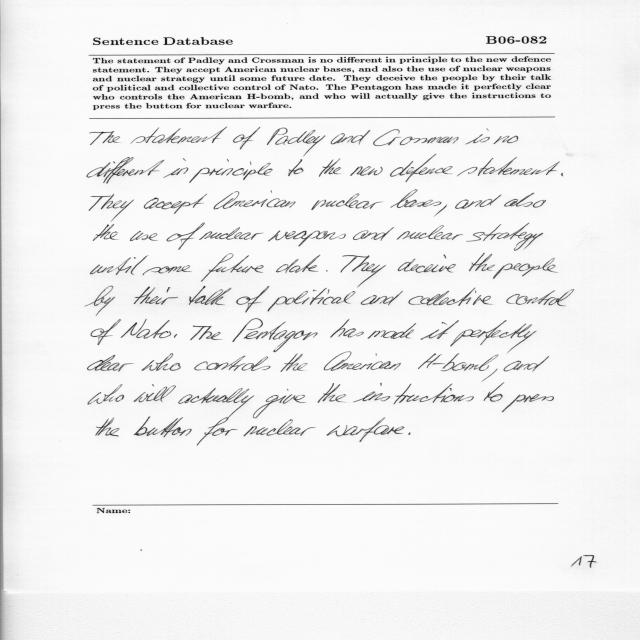word: (178, 388, 254, 443), (450, 320, 537, 353), (233, 319, 318, 352), (353, 383, 474, 404), (466, 223, 543, 251), (268, 288, 356, 311), (189, 159, 273, 183), (87, 157, 164, 183), (457, 157, 560, 176), (327, 417, 405, 442), (390, 154, 453, 182), (201, 254, 263, 282), (131, 127, 228, 144), (267, 128, 325, 156), (214, 191, 296, 210), (253, 389, 306, 418), (340, 255, 386, 288), (409, 288, 493, 306), (324, 352, 401, 371), (373, 129, 459, 146), (418, 354, 498, 372), (493, 258, 558, 279), (134, 416, 192, 438), (144, 194, 207, 214), (268, 231, 346, 247), (311, 193, 384, 210), (244, 420, 316, 437), (89, 194, 134, 221), (506, 289, 574, 306), (194, 356, 271, 371), (90, 256, 149, 275), (398, 255, 456, 273), (167, 223, 205, 250), (121, 319, 171, 339), (397, 225, 463, 240), (502, 394, 554, 412), (391, 190, 442, 208), (85, 286, 115, 316), (236, 286, 269, 313), (134, 286, 178, 305), (199, 227, 263, 240), (189, 286, 231, 305), (276, 255, 320, 273), (88, 355, 134, 372), (91, 319, 121, 345), (420, 320, 459, 340), (368, 323, 416, 339), (88, 384, 124, 405), (134, 385, 176, 403), (504, 356, 549, 372), (142, 353, 181, 371), (456, 194, 502, 209), (330, 319, 364, 338), (504, 193, 546, 208), (233, 127, 261, 149), (331, 130, 371, 145), (361, 291, 403, 305), (353, 227, 394, 241), (318, 383, 346, 403), (163, 158, 189, 178), (281, 353, 308, 372), (143, 266, 192, 276), (469, 253, 495, 271), (96, 418, 120, 437), (190, 326, 222, 340), (93, 224, 119, 241), (90, 131, 120, 145), (319, 158, 341, 177), (465, 129, 490, 145), (484, 383, 504, 402), (350, 166, 383, 176), (130, 231, 158, 241), (288, 159, 304, 176), (482, 369, 498, 382), (494, 136, 518, 144), (434, 205, 447, 217), (174, 334, 177, 338), (561, 173, 563, 176), (409, 432, 411, 435), (199, 440, 201, 442), (326, 270, 327, 272)
